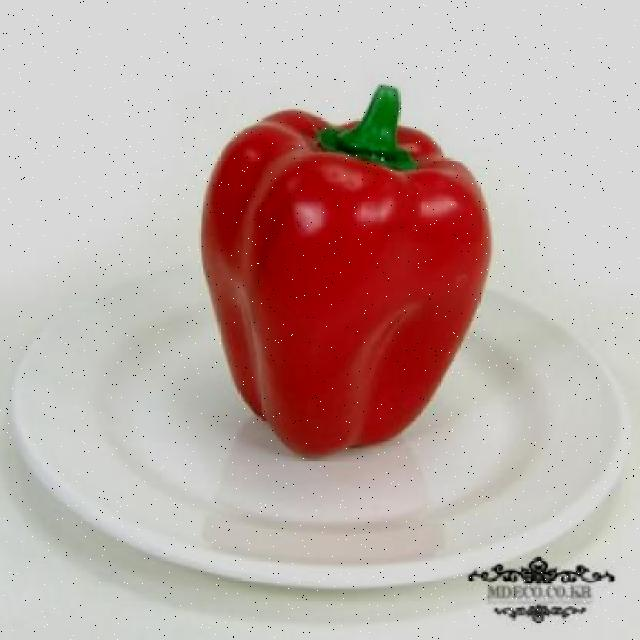Bell Pepper: (160, 62, 538, 476)
